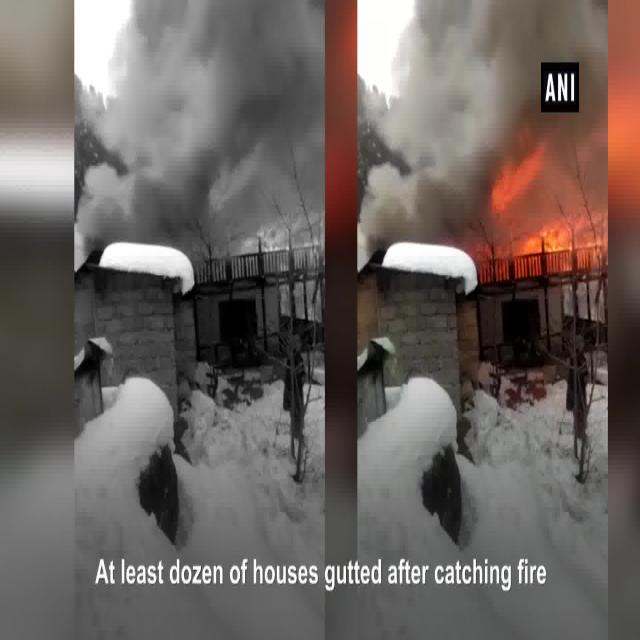smoke: (112, 13, 329, 231), (396, 6, 496, 246), (499, 6, 602, 58)
